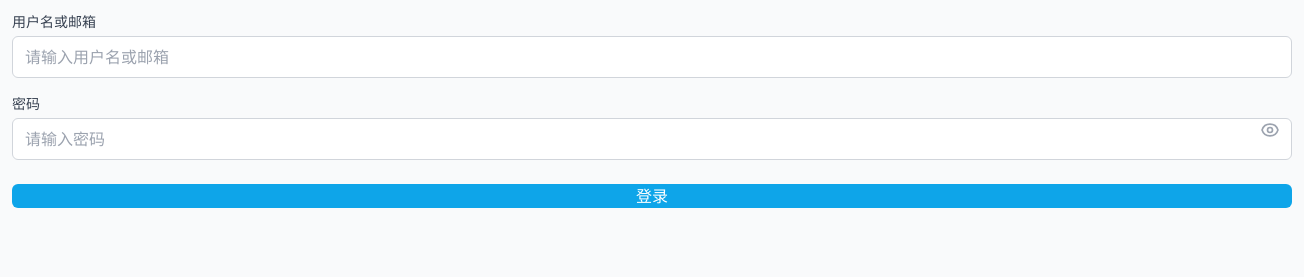
Test: LoginForm - 表单验证 › 空表单提交应该显示验证错误
This screenshot has width=1304, height=277.
Click the button "登录": (652, 196) 12,184 -> 1292,208
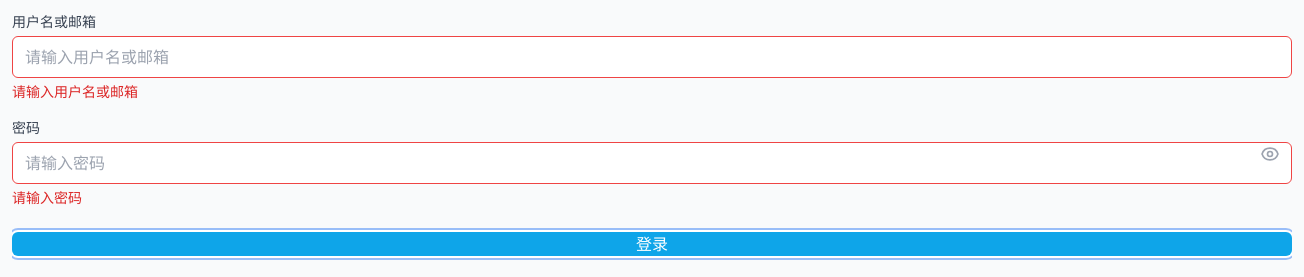
Expected: the text "请输入用户名或邮箱" is shown, 12,83 -> 138,100
Expected: the text "请输入密码" is shown, 12,189 -> 82,206
